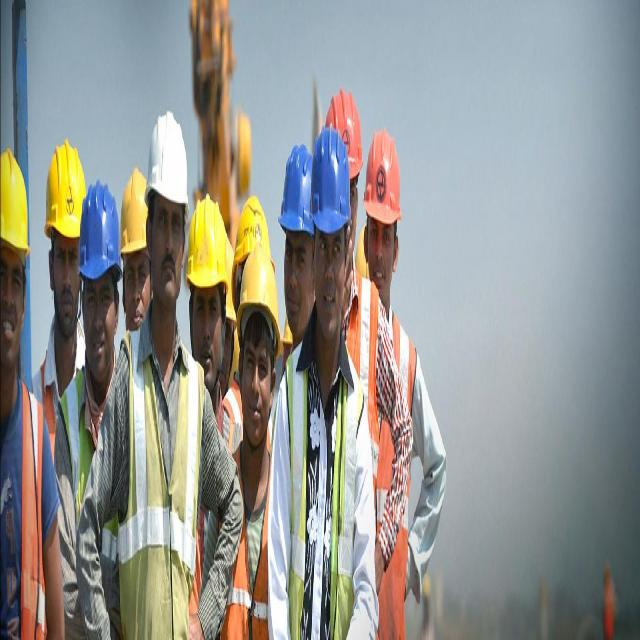Reflective-Jacket: (118, 334, 206, 640), (278, 338, 365, 640), (0, 372, 44, 640)
Safety-Helmet: (228, 192, 280, 331), (143, 102, 190, 215), (42, 131, 87, 244), (76, 176, 122, 285), (310, 118, 352, 234), (185, 186, 228, 293), (362, 120, 402, 228), (278, 136, 314, 246), (0, 141, 31, 264), (120, 158, 149, 261)
